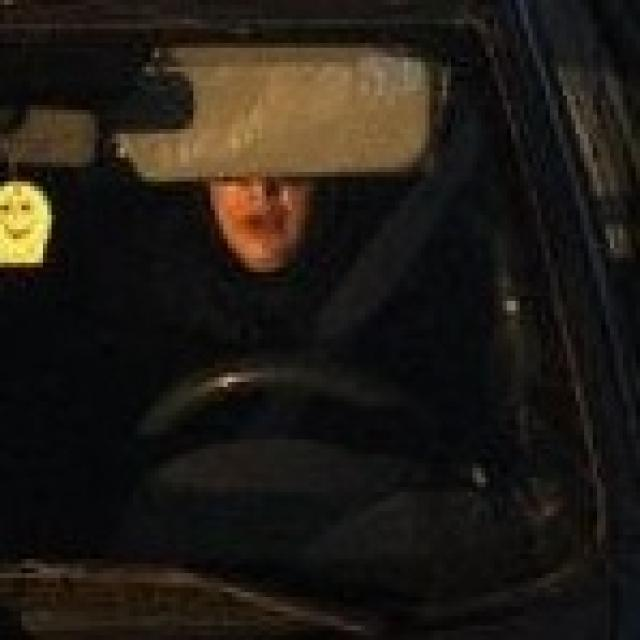windshield: (15, 10, 622, 631)
